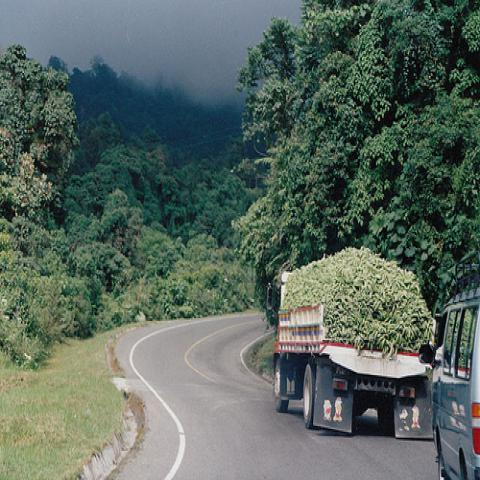car: (432, 250, 479, 478)
truck: (272, 306, 434, 442)
